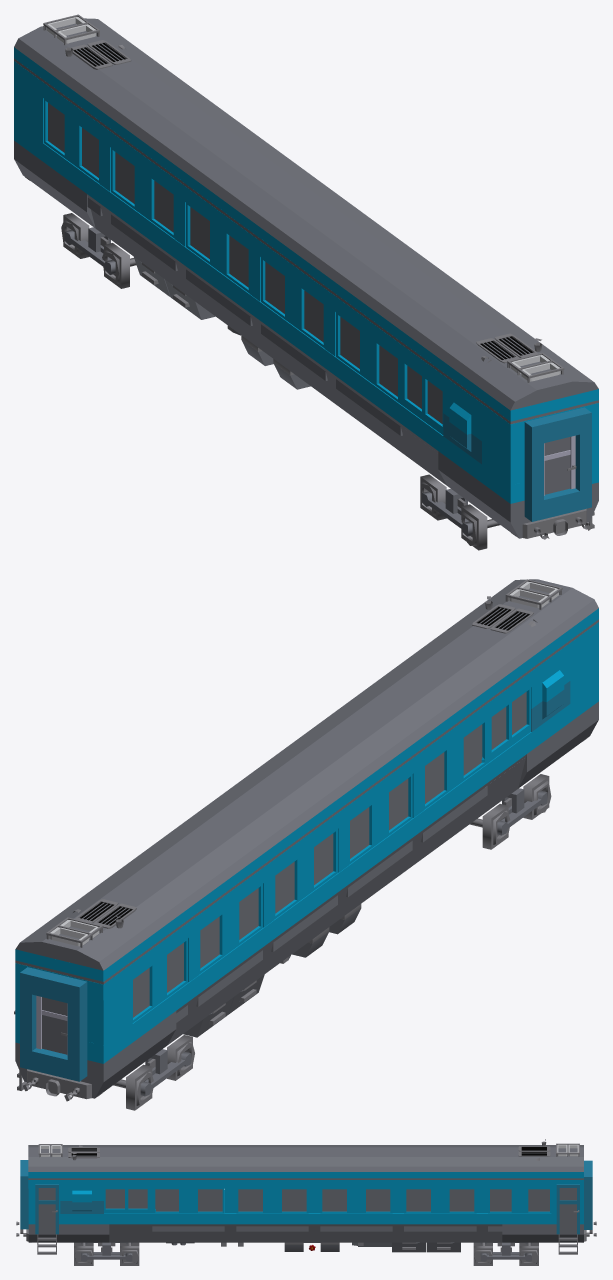
File: passenger-car.lod0.glb
3 renders of one model, top to bottom at view 1: azimuth 30°, elevation 25°; view 2: azimuth 150°, elevation 25°; view 3: azimuth 270°, elevation 25°, orthographic. The views are drawn at different scales.
Visible parts, largest first — view 1: wheel_medium_steel(Clone)_0, wheel_medium_dark(Clone)_0; view 2: wheel_medium_steel(Clone)_0, wheel_medium_dark(Clone)_0; view 3: wheel_medium_steel(Clone)_0, wheel_medium_dark(Clone)_0.
Boxes of the visible parts, <box> form: wheel_medium_steel(Clone)_0: <box>14,14,598,550</box>; wheel_medium_dark(Clone)_0: <box>14,18,598,538</box>; wheel_medium_steel(Clone)_0: <box>14,579,598,1110</box>; wheel_medium_dark(Clone)_0: <box>15,579,598,1098</box>; wheel_medium_steel(Clone)_0: <box>16,1139,596,1265</box>; wheel_medium_dark(Clone)_0: <box>28,1145,583,1261</box>.
Size of the model in its own units: 2.24 by 4.23 by 20.5.
